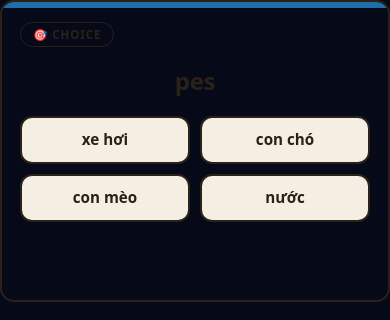
Test: study text opts out of browser translation › protects the revealed answer after a wrong multiple-choice pick
The image size is (390, 320).
Click the button "con mèo". click: click(105, 198)
box: [20,174,190,222]
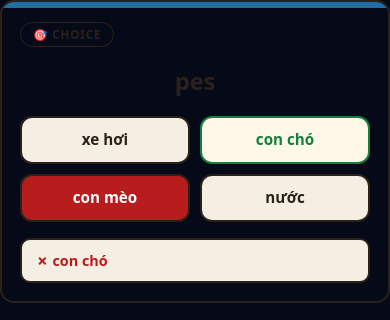
Now the text "✗ con chó" is shown, box [36,250,108,271]
